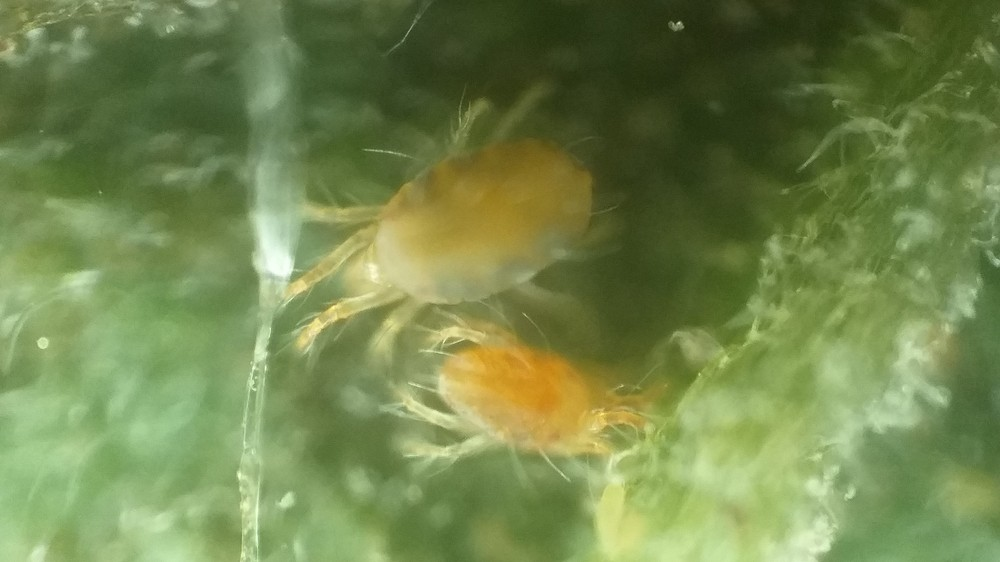Aracnido Rojo: (242, 88, 685, 352), (392, 316, 704, 503)
